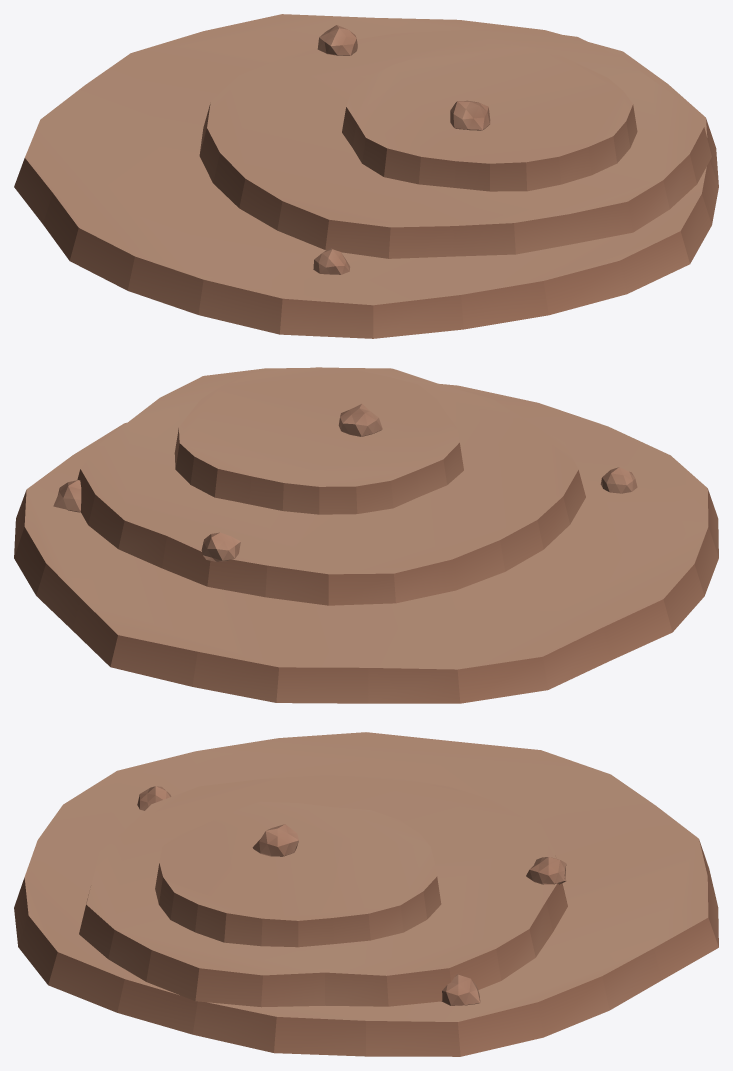
File: terrain_hills.glb
3 views of the same model, one above another, from view 1: azimuth 30°, elevation 25°; view 2: azimuth 150°, elevation 25°; view 3: azimuth 270°, elevation 25° (orthographic).
Parts seen in each view (by area): view 1: hills_t1, hills_t2, hills_t3, hills_b4, hills_b3, hills_b2; view 2: hills_t1, hills_t2, hills_t3, hills_b4, hills_b3, hills_b2, hills_b1; view 3: hills_t1, hills_t2, hills_t3, hills_b4, hills_b1, hills_b3.
Boxes of the visible parts, <box> form: hills_t1: <box>14,14,718,338</box>; hills_t2: <box>199,28,711,258</box>; hills_t3: <box>342,43,637,191</box>; hills_b4: <box>450,100,490,130</box>; hills_b3: <box>317,25,357,55</box>; hills_b2: <box>313,248,350,274</box>; hills_t1: <box>14,384,718,703</box>; hills_t2: <box>77,367,585,605</box>; hills_t3: <box>174,367,463,514</box>; hills_b4: <box>338,404,382,436</box>; hills_b3: <box>201,532,240,561</box>; hills_b2: <box>600,467,637,493</box>; hills_b1: <box>53,480,81,512</box>; hills_t1: <box>14,732,718,1056</box>; hills_t2: <box>79,775,567,1007</box>; hills_t3: <box>155,801,441,947</box>; hills_b4: <box>252,824,298,856</box>; hills_b1: <box>441,974,480,1005</box>; hills_b3: <box>526,857,566,884</box>.
Bounding box in the file's own units: 1.56 × 0.2568 × 1.56.
